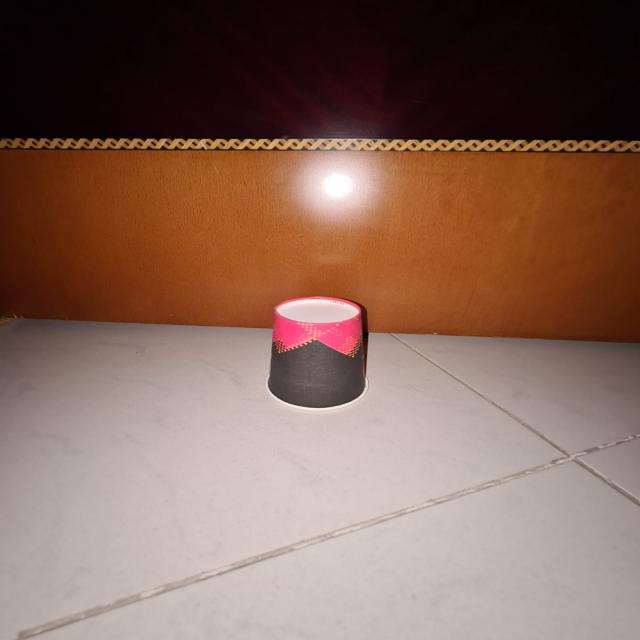cups: (265, 296, 371, 414)
